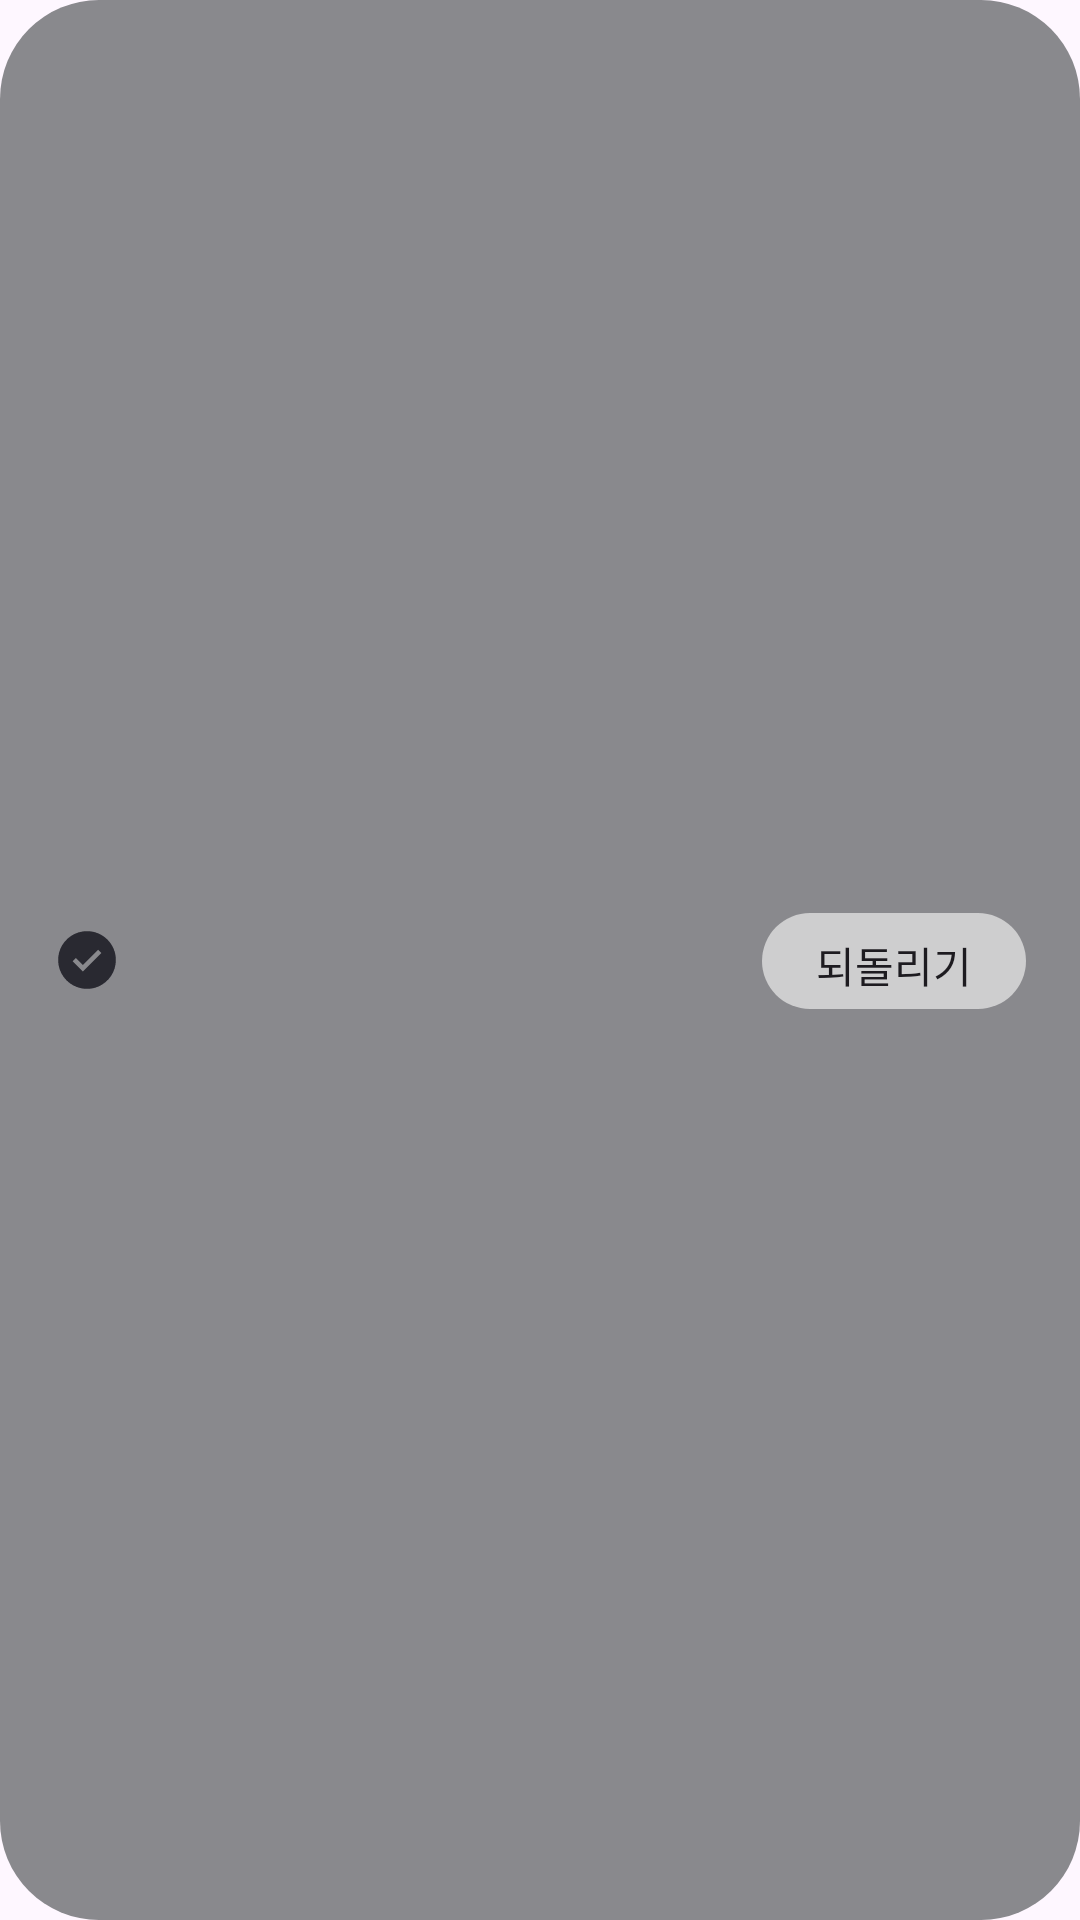

Named icons in this screenshot (1080*1920) and their centers, point (x, y):
todo status completed: point (87, 960)
